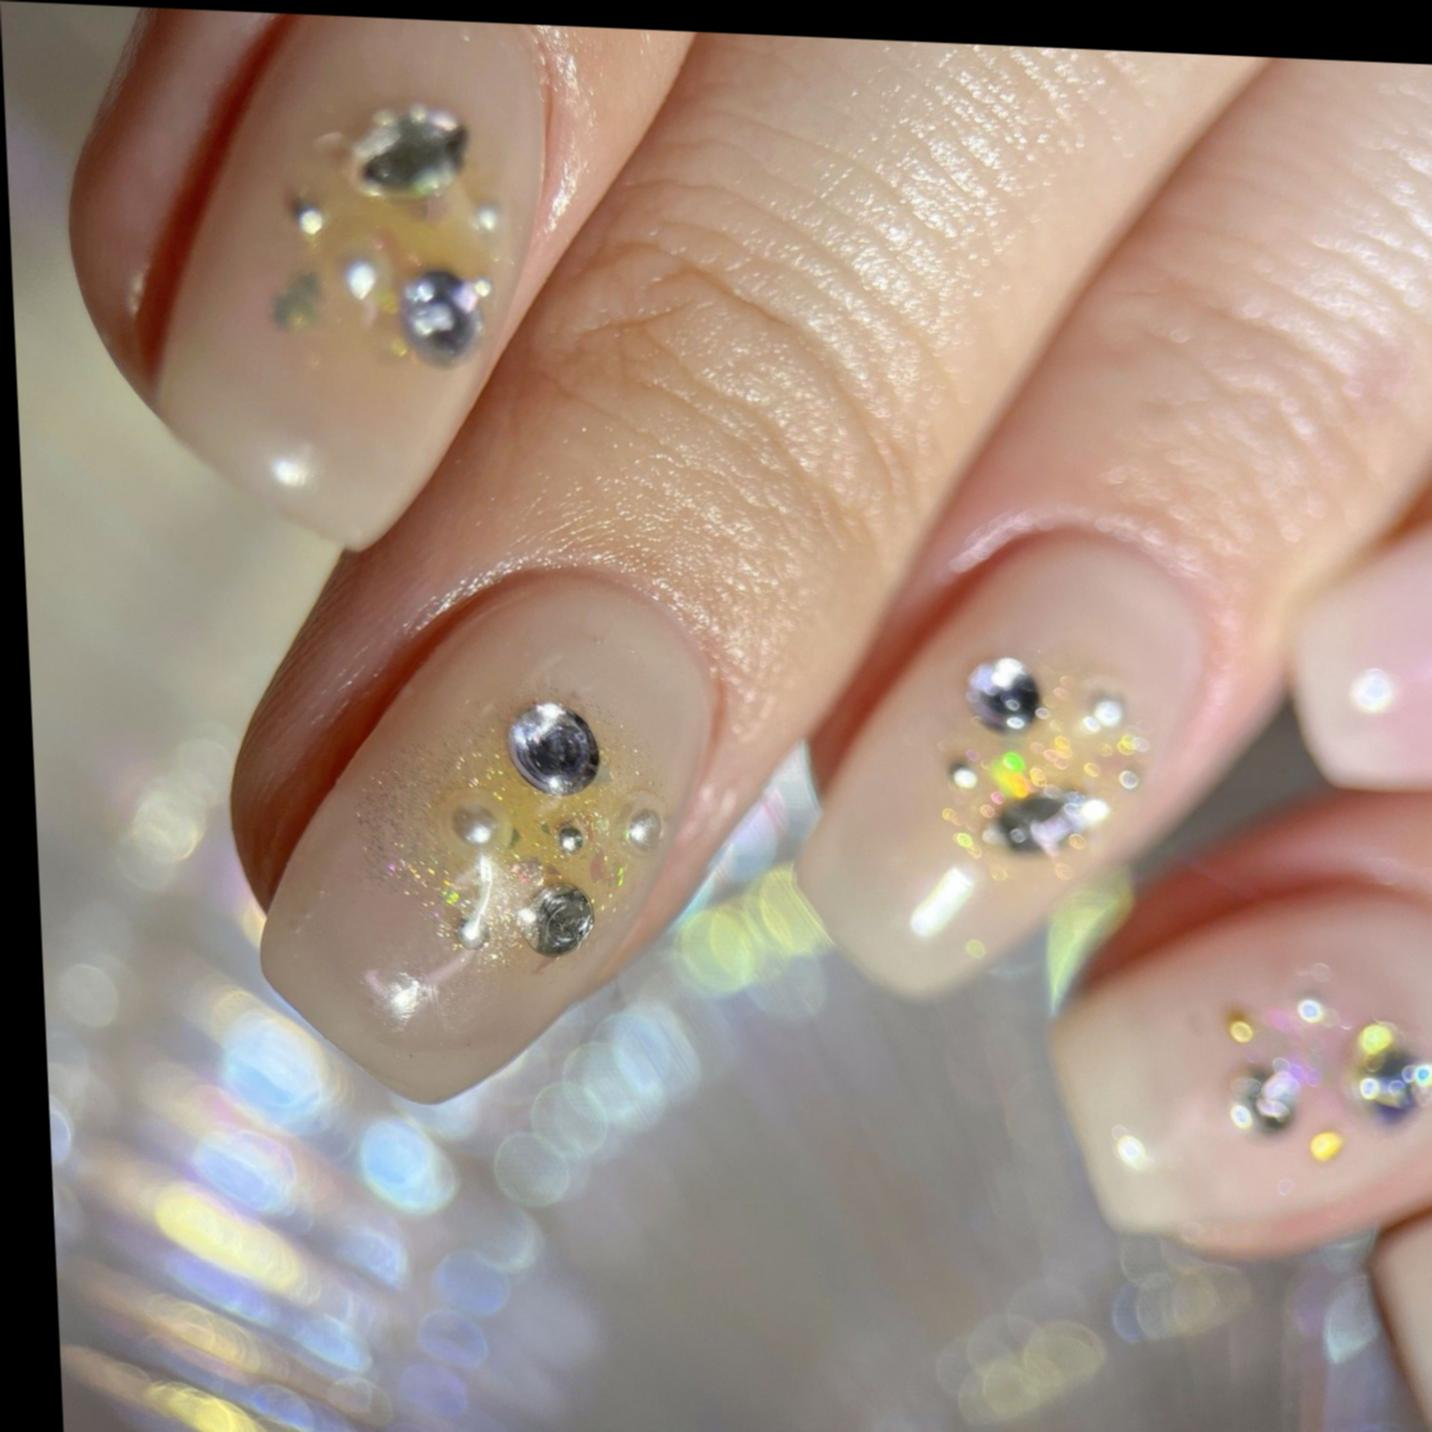nail: (56, 3, 725, 567), (233, 547, 746, 1119), (779, 511, 1237, 1012), (1035, 771, 1432, 1273), (1281, 500, 1432, 793)
